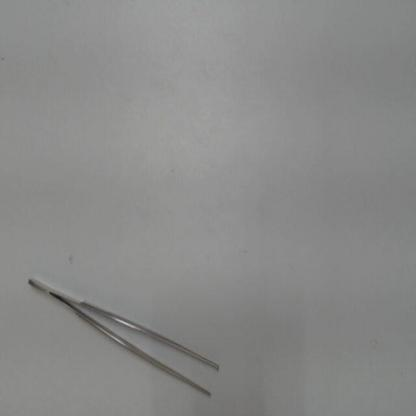Gillies Toothed Dissector: (22, 269, 226, 403)
